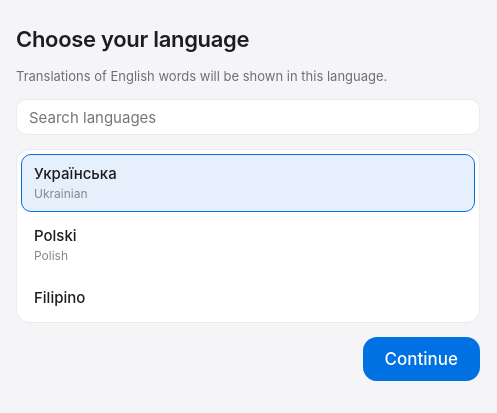
Test: LanguagePicker › keeps the picker open and shows the reason when saving fails
This screenshot has width=497, height=413.
Click the button "Continue".
click(421, 359)  # box [362, 337, 480, 381]
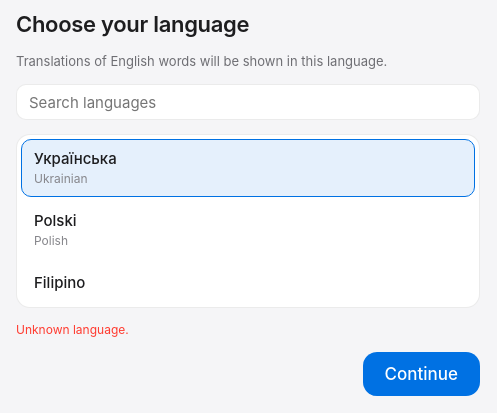
Expected: the button "Continue" is enabled, [362, 352, 480, 396]
Expected: the text with class "error" reads "Unknown language.", [16, 322, 129, 337]
